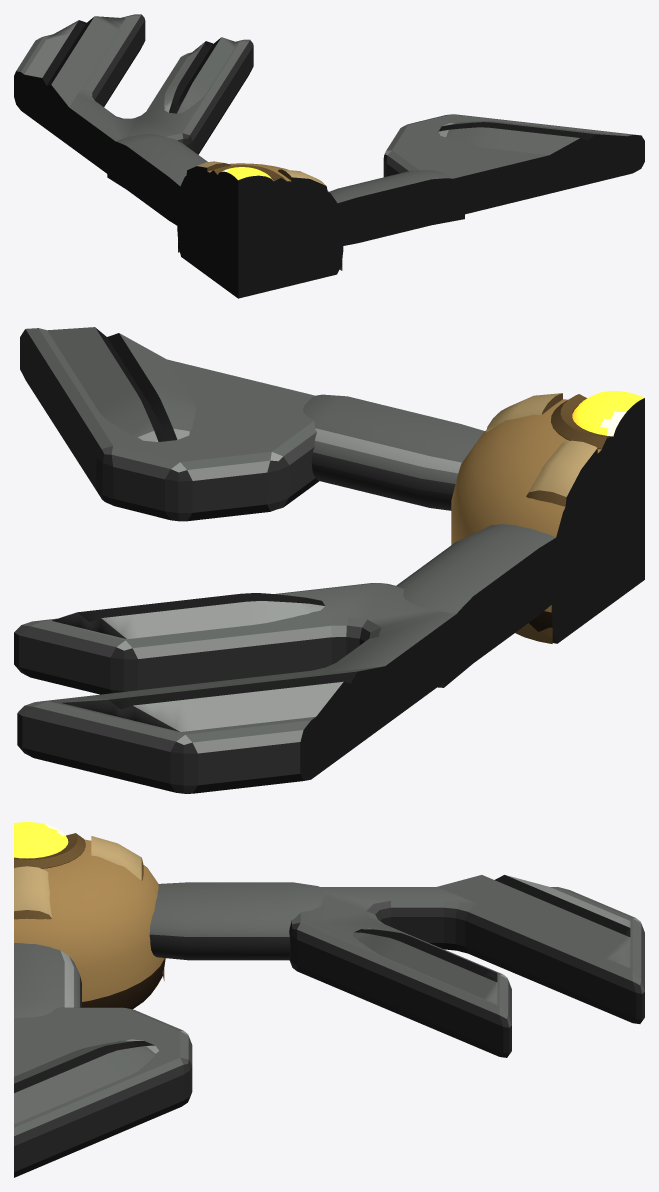
The model's file is spin_claw_11.glb.
3 renders of one model, top to bottom at view 1: azimuth 30°, elevation 25°; view 2: azimuth 150°, elevation 25°; view 3: azimuth 270°, elevation 25°, orthographic. The views are drawn at different scales.
Parts seen in each view (by area): view 1: spin_claw_11_hub_dome, spin_claw_11_arm0_plate, spin_claw_11_arm1_plate, spin_claw_11_arm1_rod, spin_claw_11_arm0_rod, spin_claw_11_arm0_ridge0, spin_claw_11_arm1_ridge0, spin_claw_11_arm0_ridge1, spin_claw_11_hub_lens, spin_claw_11_hub_rib1, spin_claw_11_hub_bezel; view 2: spin_claw_11_arm0_plate, spin_claw_11_arm1_plate, spin_claw_11_hub_dome, spin_claw_11_arm0_rod, spin_claw_11_arm1_rod, spin_claw_11_arm0_ridge0, spin_claw_11_arm1_ridge0, spin_claw_11_arm0_ridge1, spin_claw_11_hub_rib0, spin_claw_11_hub_lens, spin_claw_11_hub_bezel, spin_claw_11_hub_rib1; view 3: spin_claw_11_arm0_plate, spin_claw_11_arm1_plate, spin_claw_11_hub_dome, spin_claw_11_arm0_rod, spin_claw_11_arm0_ridge0, spin_claw_11_arm1_ridge0, spin_claw_11_arm1_rod, spin_claw_11_arm0_ridge1, spin_claw_11_hub_rib1, spin_claw_11_hub_lens, spin_claw_11_hub_rib0, spin_claw_11_hub_bezel.
Part boxes in pixels (<box>): spin_claw_11_hub_dome: <box>177,163,343,298</box>; spin_claw_11_arm0_plate: <box>14,14,253,185</box>; spin_claw_11_arm1_plate: <box>383,114,644,221</box>; spin_claw_11_arm1_rod: <box>310,170,464,251</box>; spin_claw_11_arm0_rod: <box>107,134,207,237</box>; spin_claw_11_arm0_ridge0: <box>20,16,125,117</box>; spin_claw_11_arm1_ridge0: <box>438,121,633,163</box>; spin_claw_11_arm0_ridge1: <box>164,37,237,113</box>; spin_claw_11_hub_lens: <box>217,167,274,201</box>; spin_claw_11_hub_rib1: <box>278,169,342,270</box>; spin_claw_11_hub_bezel: <box>210,165,286,200</box>; spin_claw_11_arm0_plate: <box>14,583,476,793</box>; spin_claw_11_arm1_plate: <box>20,328,319,521</box>; spin_claw_11_hub_dome: <box>451,399,644,643</box>; spin_claw_11_arm0_rod: <box>396,524,581,687</box>; spin_claw_11_arm1_rod: <box>303,394,484,510</box>; spin_claw_11_arm0_ridge0: <box>62,665,391,731</box>; spin_claw_11_arm1_ridge0: <box>47,327,195,441</box>; spin_claw_11_arm0_ridge1: <box>52,593,324,639</box>; spin_claw_11_hub_rib0: <box>515,440,597,643</box>; spin_claw_11_hub_lens: <box>572,390,644,455</box>; spin_claw_11_hub_bezel: <box>551,394,644,456</box>; spin_claw_11_hub_rib1: <box>486,393,562,432</box>; spin_claw_11_arm0_plate: <box>288,887,644,1057</box>; spin_claw_11_arm1_plate: <box>14,1007,192,1177</box>; spin_claw_11_hub_dome: <box>14,839,165,1009</box>; spin_claw_11_arm0_rod: <box>149,882,324,960</box>; spin_claw_11_arm0_ridge0: <box>437,875,630,968</box>; spin_claw_11_arm1_ridge0: <box>14,1039,158,1124</box>; spin_claw_11_arm1_rod: <box>14,943,81,1017</box>; spin_claw_11_arm0_ridge1: <box>353,928,497,1004</box>; spin_claw_11_hub_rib1: <box>14,866,51,919</box>; spin_claw_11_hub_lens: <box>14,822,68,858</box>; spin_claw_11_hub_rib0: <box>91,836,164,980</box>; spin_claw_11_hub_bezel: <box>14,833,85,868</box>.
Bounding box in the file's own units: 22.08 × 6.22 × 23.7.
